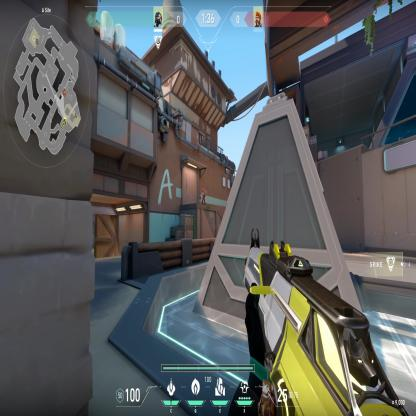enemy: (201, 186, 206, 206)
